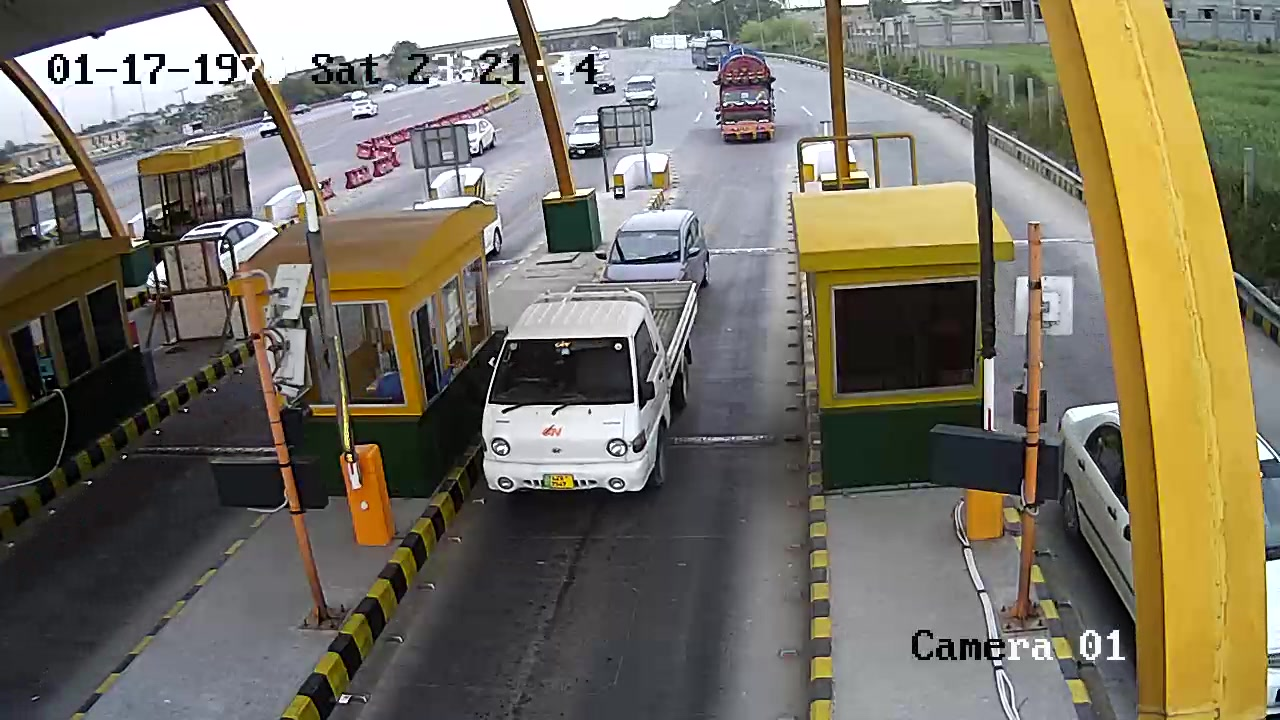F2: (478, 276, 715, 496)
